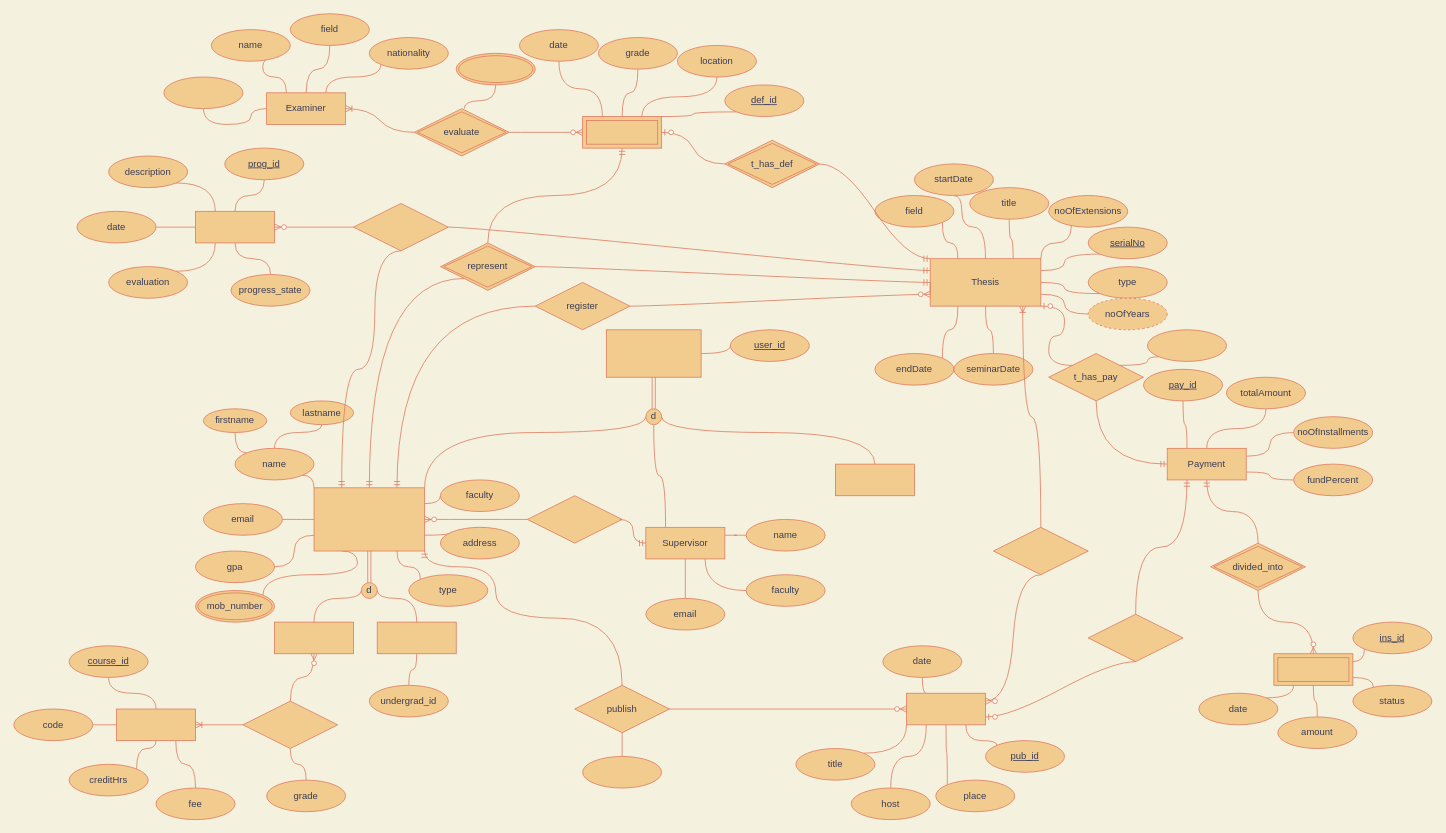
Image size: 1446x833. Some labels were removed from this diagram. Here are the shapes that lost their labels. From the top down, the centre of each, then its label:
(x=495, y=69): comment
(x=203, y=92): e_id
(x=622, y=132): Defense
(x=235, y=227): ProgressReport
(x=400, y=227): fill
(x=653, y=353): User
(x=1186, y=345): pay_completed
(x=874, y=479): Admin
(x=369, y=519): Student
(x=574, y=519): supervises
(x=1040, y=551): belongs
(x=314, y=637): nonGUCian
(x=416, y=637): GUCian
(x=1135, y=637): pub_has_pay
(x=1313, y=669): Installment
(x=156, y=724): Course
(x=290, y=724): take_course
(x=946, y=708): Publication
(x=622, y=772): accepted
